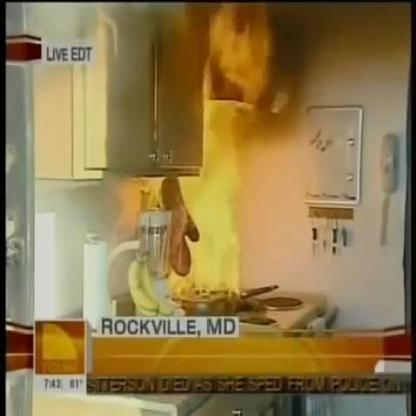fire: (172, 123, 242, 302)
